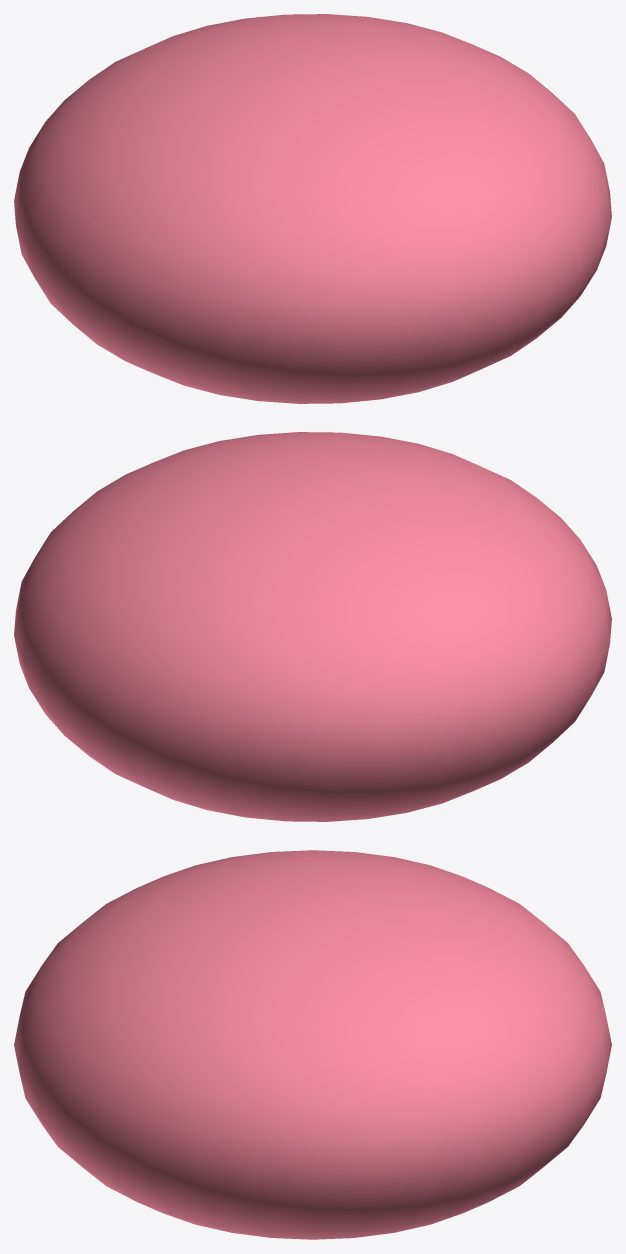
Rendered from chicken_muscle.glb.
3 renders of one model, top to bottom at view 1: azimuth 30°, elevation 25°; view 2: azimuth 150°, elevation 25°; view 3: azimuth 270°, elevation 25°, orthographic.
Parts seen in each view (by area): view 1: chicken_muscle; view 2: chicken_muscle; view 3: chicken_muscle.
Boxes of the visible parts, x1,y1,x2,y2 form: chicken_muscle: (14,14,611,403); chicken_muscle: (14,432,611,821); chicken_muscle: (14,850,611,1239).
Size of the model in its own units: 0.2 by 0.11 by 0.2.
